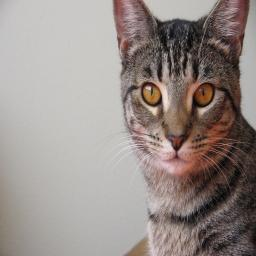catnose: (166, 134, 188, 152)
